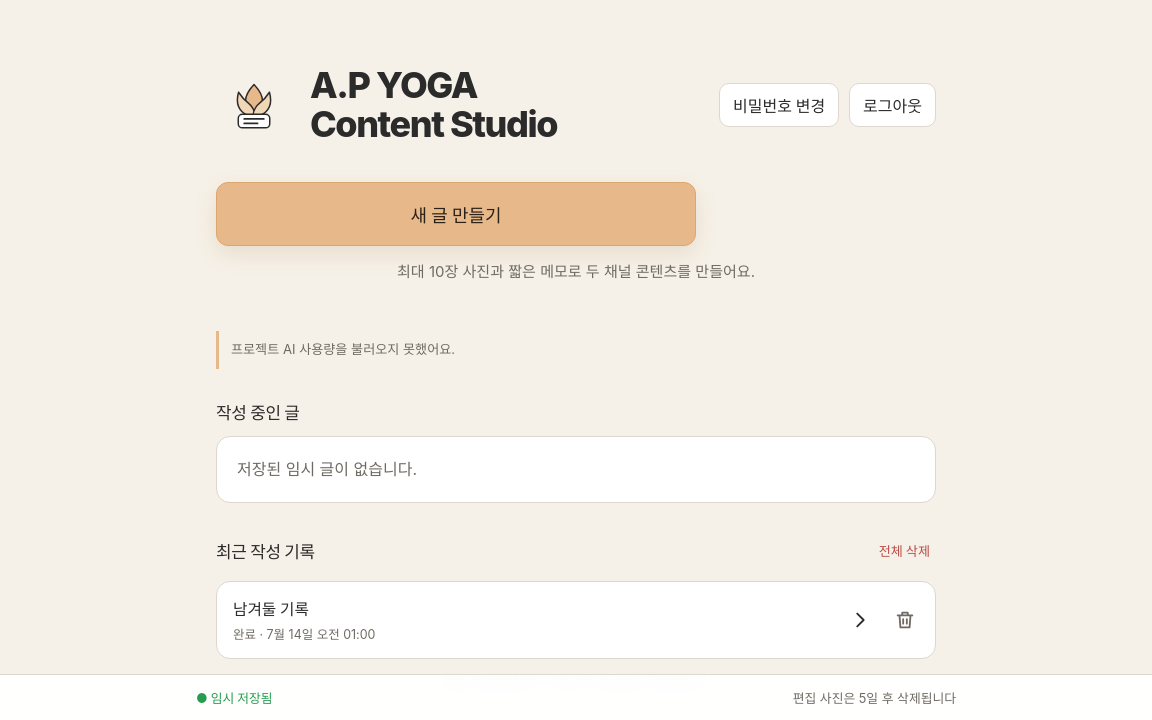
Test: history deletion › cancels an individual deletion without changing history
Expected: the text "남겨둘 기록" is shown, [233,600,309,618]
Click the button named "남겨둘 기록 삭제": (905, 620) [883,598,927,642]
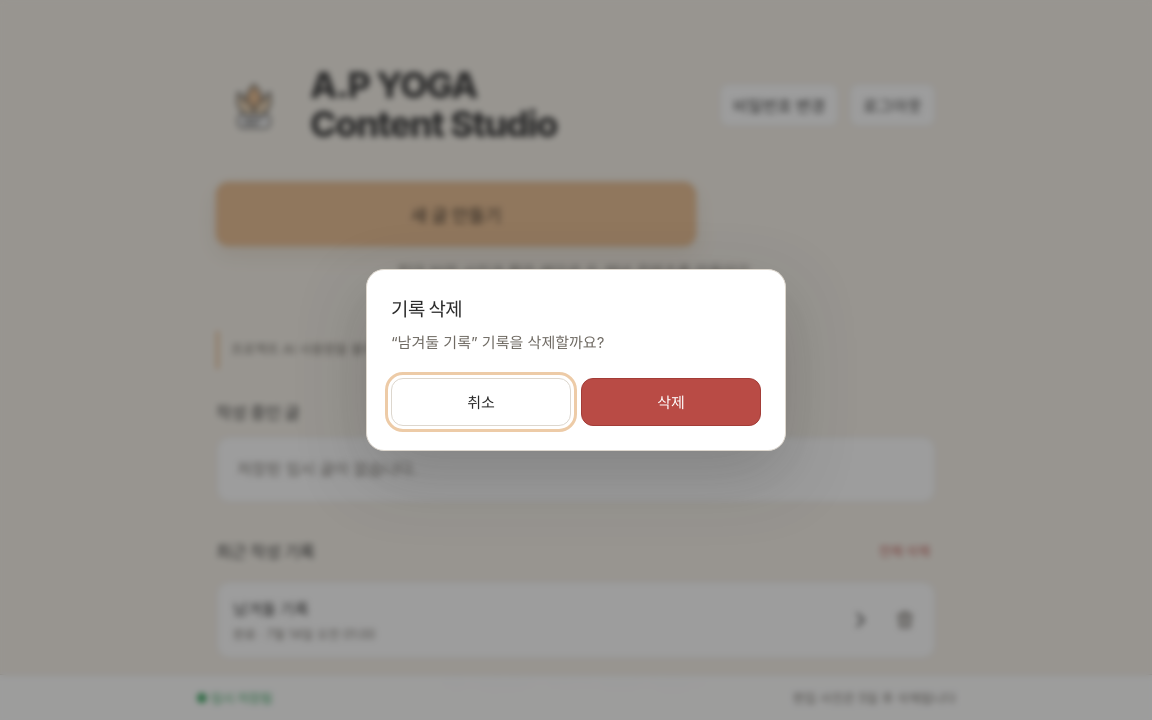
Click the button "취소": (481, 402) [391,378,571,426]
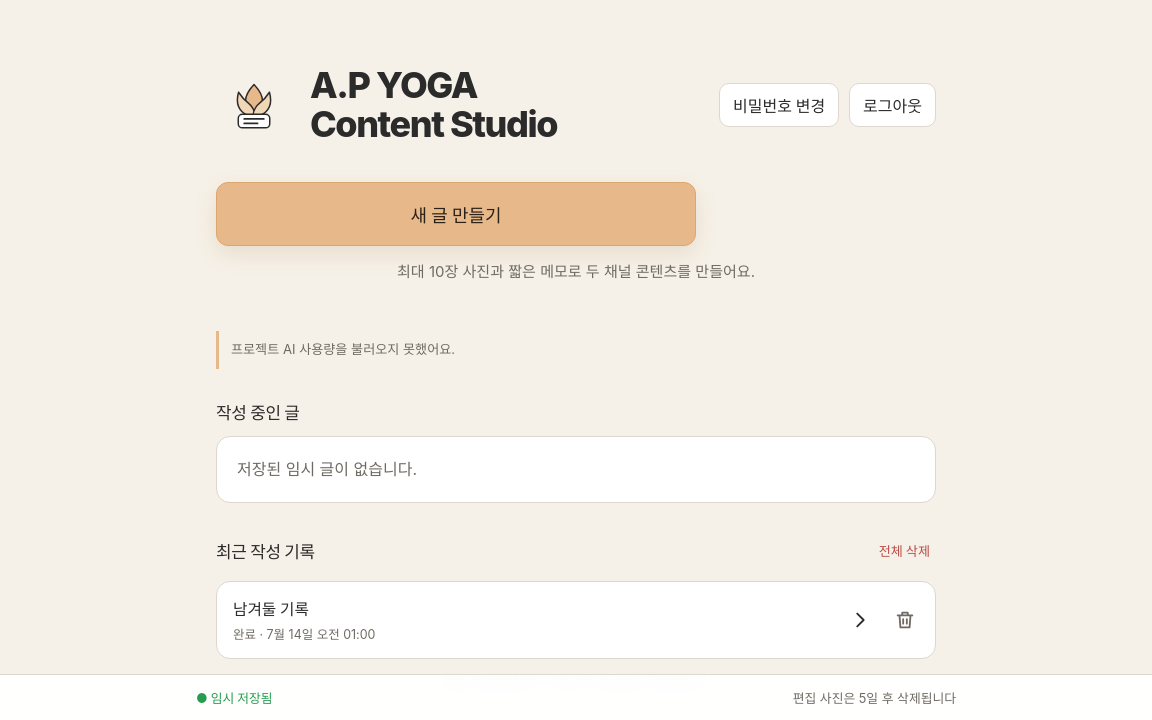
Expected: the text "남겨둘 기록" is shown, [233,600,309,618]
Now the dialog is gone
